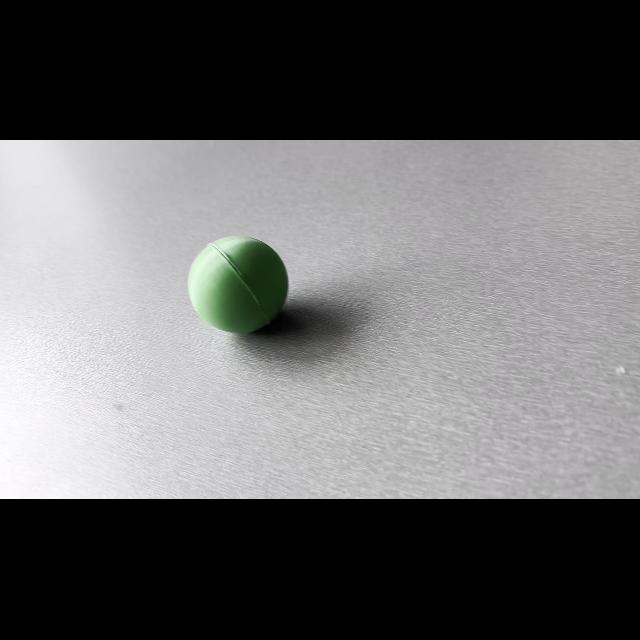objects: (183, 228, 299, 338)
